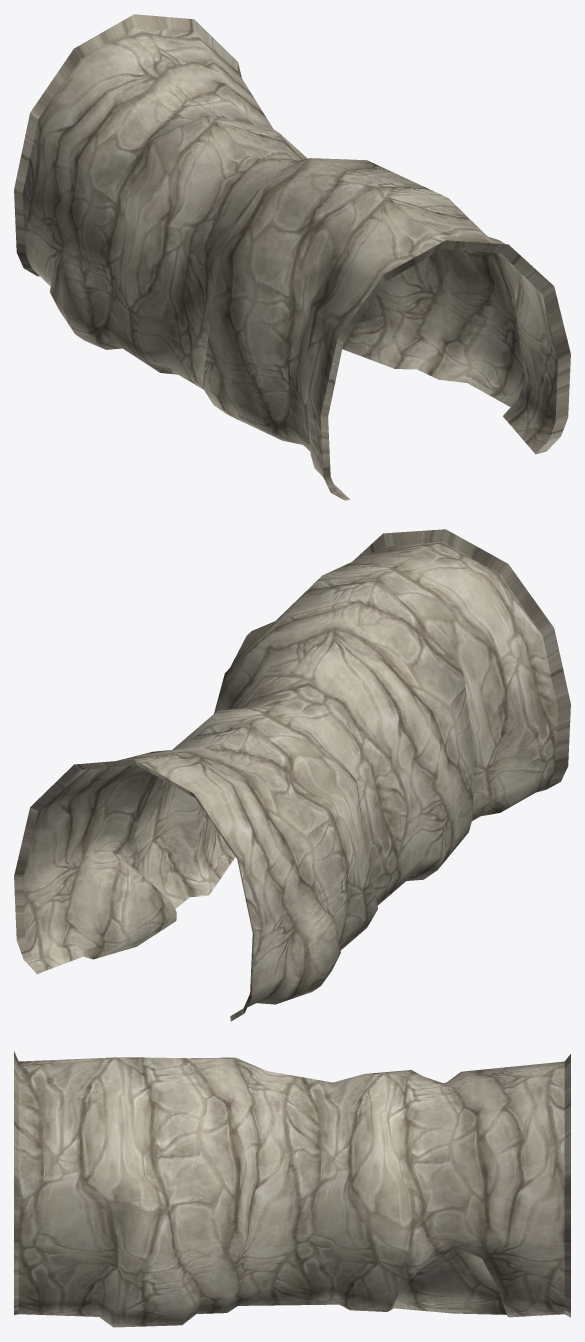
File: cave ceiling straight.FBX
3 renders of one model, top to bottom at view 1: azimuth 30°, elevation 25°; view 2: azimuth 150°, elevation 25°; view 3: azimuth 270°, elevation 25°, orthographic. The views are drawn at different scales.
Visible parts, largest first — view 1: cave ceiling straight001; view 2: cave ceiling straight001; view 3: cave ceiling straight001.
Boxes of the visible parts, bbox=[...] form: cave ceiling straight001: bbox=[14, 14, 570, 500]; cave ceiling straight001: bbox=[14, 529, 570, 1021]; cave ceiling straight001: bbox=[14, 1051, 570, 1327].
Bounding box in the file's own units: 20.74 × 18.56 × 40.82.
